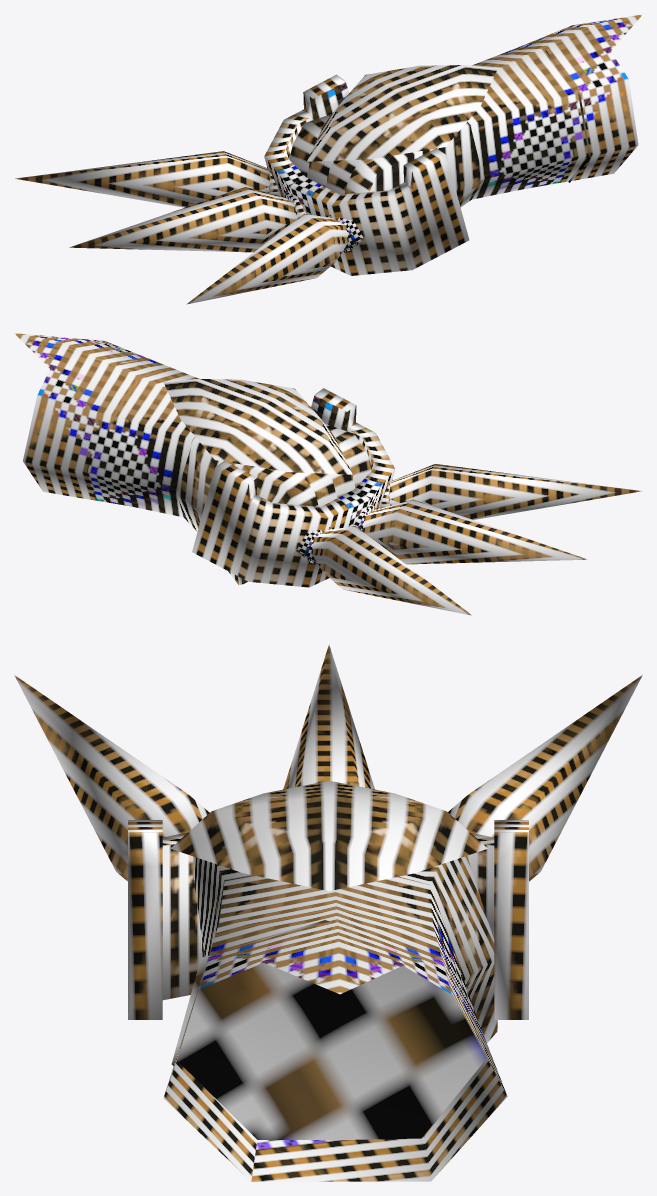
File: item_weaknucrystal-et01.glb
The picture shows the model from 3 angles, top to bottom: view 1: azimuth 30°, elevation 25°; view 2: azimuth 150°, elevation 25°; view 3: azimuth 270°, elevation 25°; orthographic projection. The views are drawn at different scales.
Visible parts, largest first — view 1: FlyffMesh; view 2: FlyffMesh; view 3: FlyffMesh.
Part boxes in pixels (box(x1,y1,x2,y2)): FlyffMesh: box(15, 14, 642, 304); FlyffMesh: box(14, 333, 642, 615); FlyffMesh: box(14, 644, 642, 1181).
Bounding box in the file's own units: 1.17 × 0.3217 × 0.6054.
Materials: 1 (1 with a texture image).
